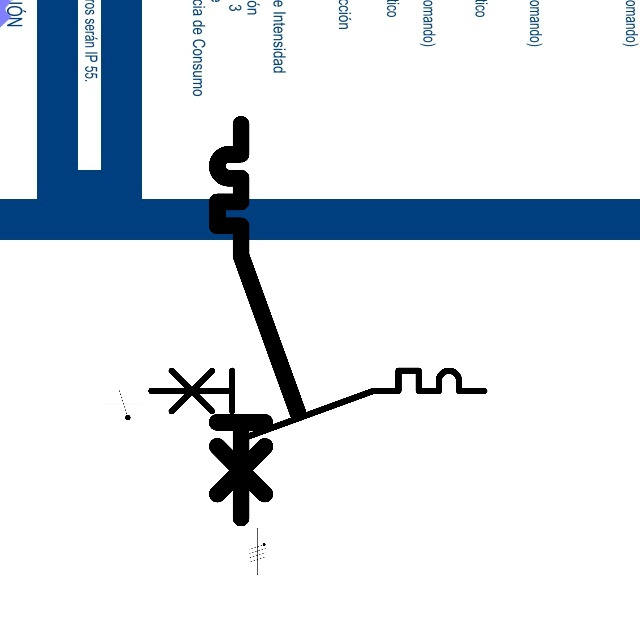interruptor_termomagnetico: (207, 114, 308, 528), (142, 362, 492, 447)
